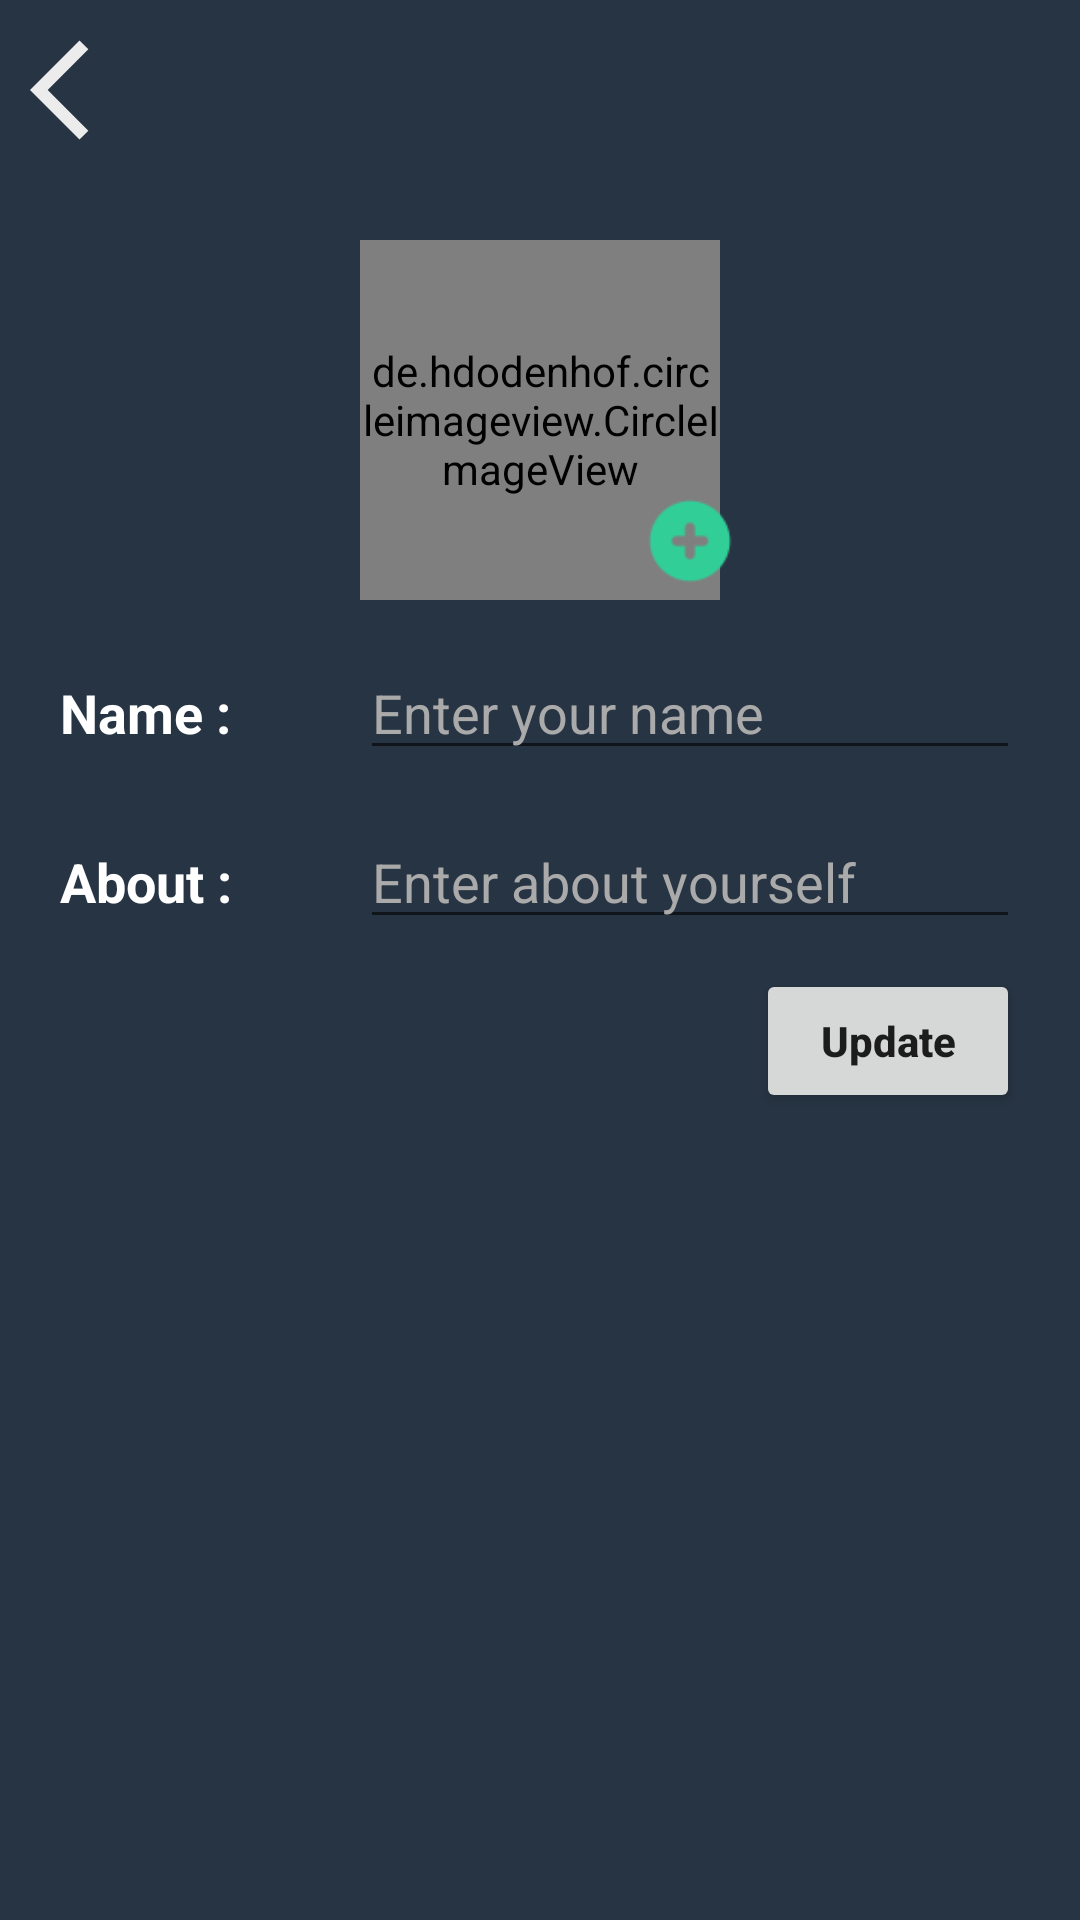

Named icons in this screenshot (1080 x 1920) and their centers, point (x, y):
arrow back: point (59, 90)
plus: point (690, 541)
